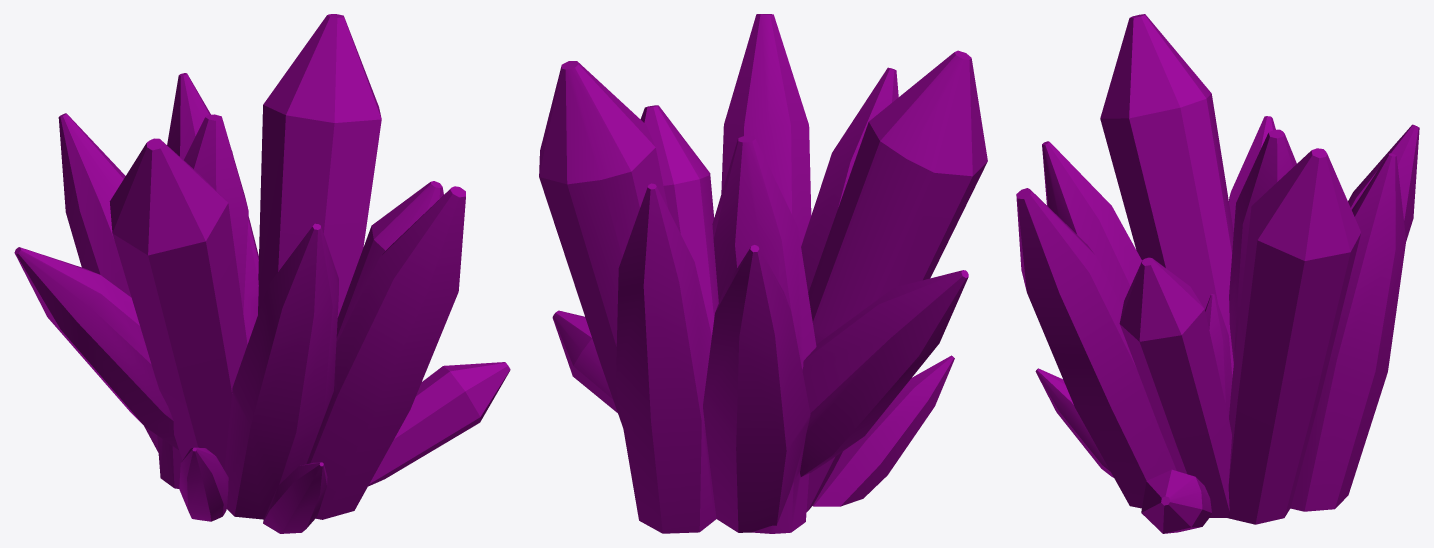
File: Crystal_Purple_01.fbx
3 views of the same model, side by side, from view 1: azimuth 30°, elevation 25°; view 2: azimuth 150°, elevation 25°; view 3: azimuth 270°, elevation 25° (orthographic). The views are drawn at different scales.
Visible parts, largest first — view 1: Crystal_Purple_01; view 2: Crystal_Purple_01; view 3: Crystal_Purple_01.
Boxes of the visible parts, x1,y1,x2,y2 form: Crystal_Purple_01: [14, 14, 510, 533]; Crystal_Purple_01: [539, 14, 987, 533]; Crystal_Purple_01: [1016, 14, 1419, 533].
Size of the model in its own units: 42.46 by 38.07 by 34.75.
